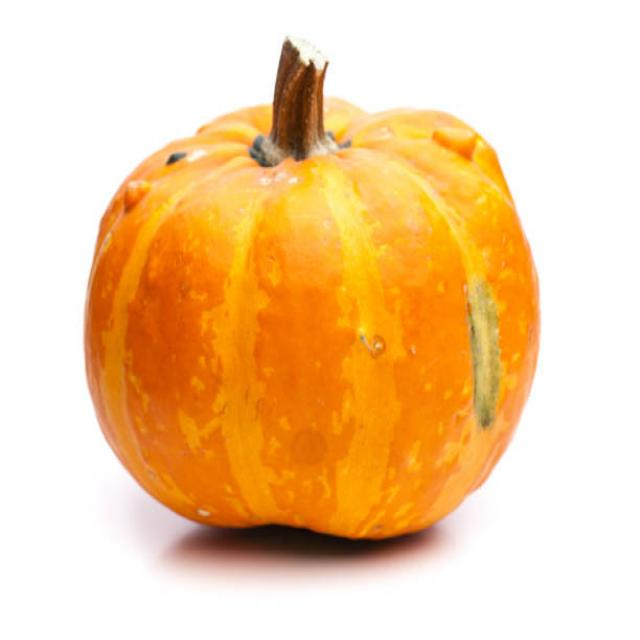pumpkin: (84, 85, 541, 544)
